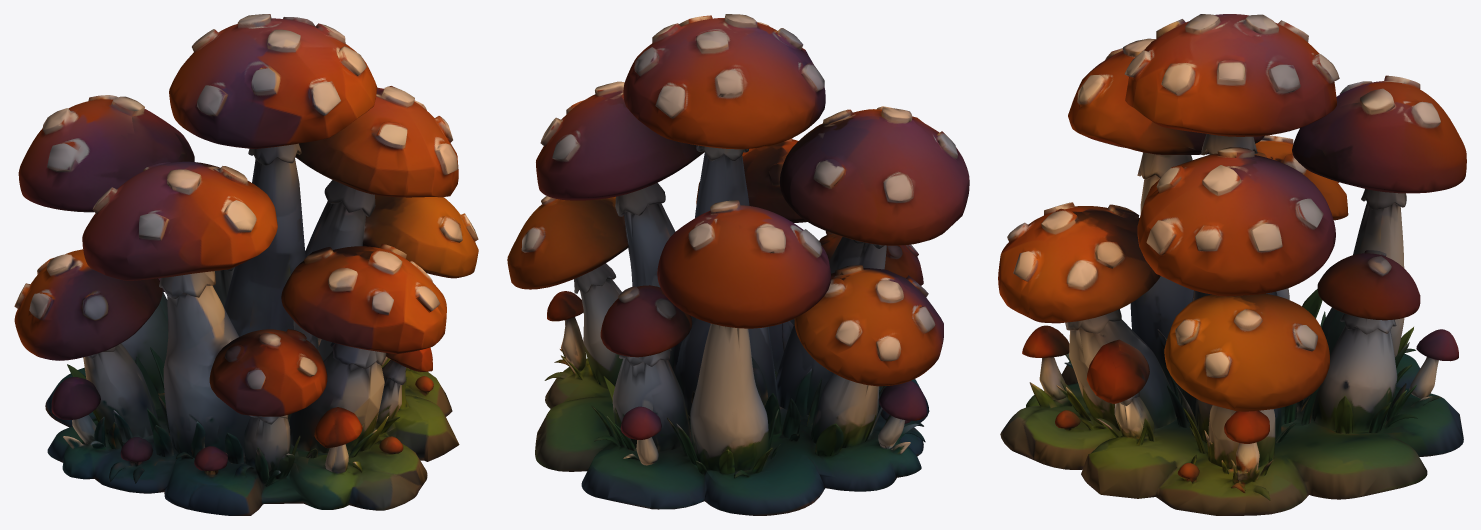
File: mushroom2.glb
3 renders of one model, left to right at view 1: azimuth 30°, elevation 25°; view 2: azimuth 150°, elevation 25°; view 3: azimuth 270°, elevation 25°, orthographic. The views are drawn at different scales.
Parts seen in each view (by area): view 1: node_0; view 2: node_0; view 3: node_0.
Part boxes in pixels (box(x1,y1,x2,y2)): node_0: box(14, 14, 478, 515); node_0: box(507, 14, 969, 515); node_0: box(998, 14, 1466, 515).
Bounding box in the file's own units: 0.9393 × 0.8395 × 0.8619.
Materials: 1 (1 with a texture image).
